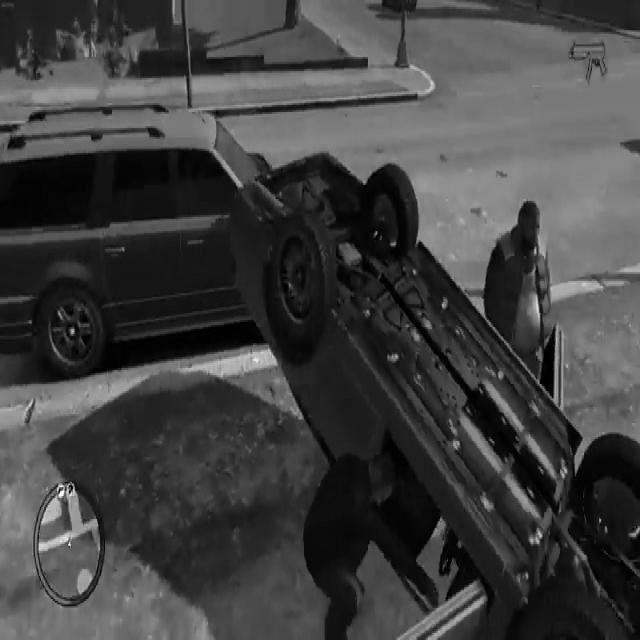accident: (216, 137, 640, 640)
vehicle: (0, 95, 231, 373)
